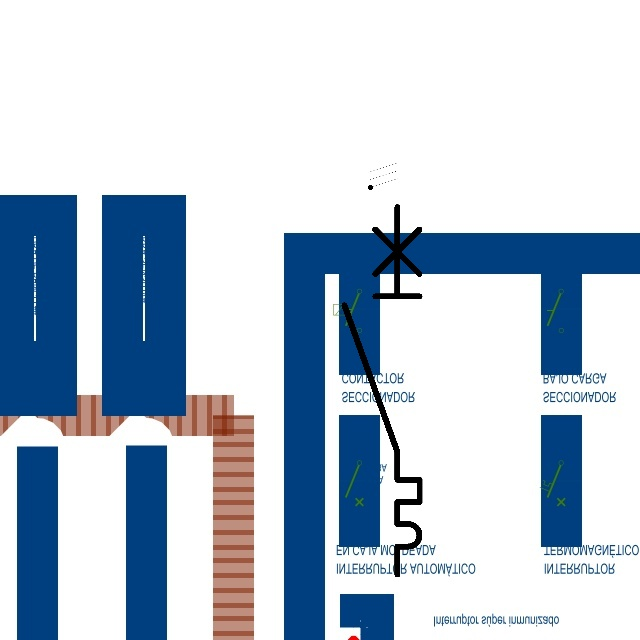interruptor_termomagnetico: (335, 197, 429, 583)
